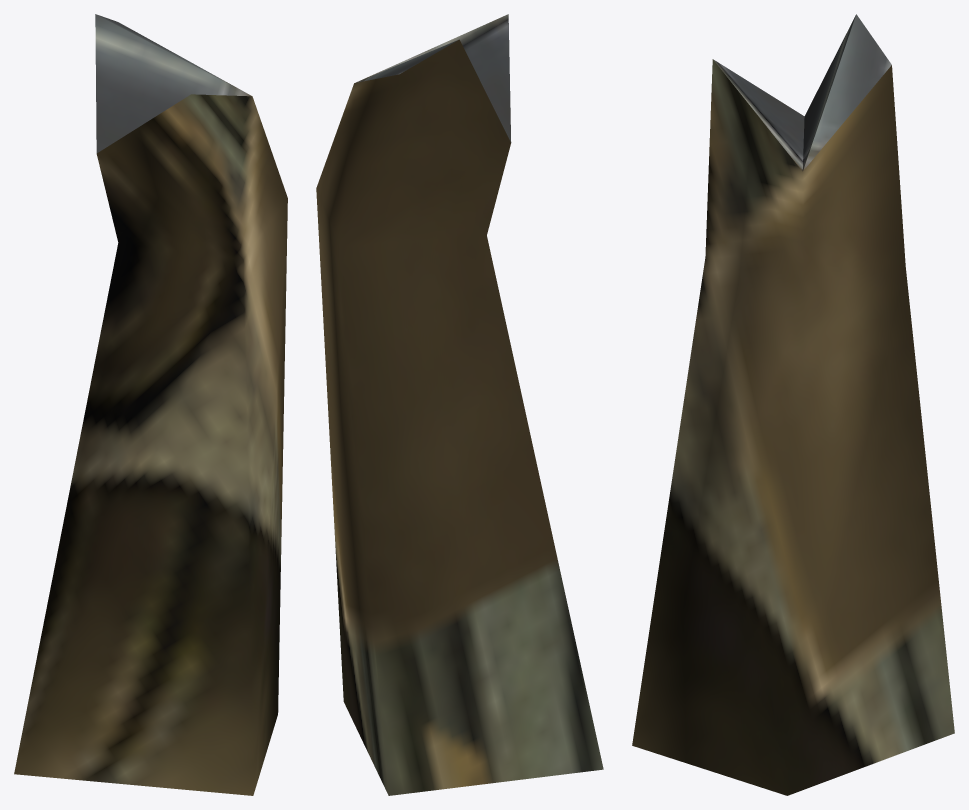
The model's file is GY_longgu006.fbx.
The picture shows the model from 3 angles, left to right: view 1: azimuth 30°, elevation 25°; view 2: azimuth 150°, elevation 25°; view 3: azimuth 270°, elevation 25°; orthographic projection. The views are drawn at different scales.
Parts seen in each view (by area): view 1: GY_longgu006; view 2: GY_longgu006; view 3: GY_longgu006.
Part boxes in pixels (left/top/right/bottom): GY_longgu006: left=14, top=14, right=287, bottom=795; GY_longgu006: left=316, top=14, right=603, bottom=795; GY_longgu006: left=632, top=14, right=954, bottom=795.
Bounding box in the file's own units: 58.87 × 144 × 59.32.
